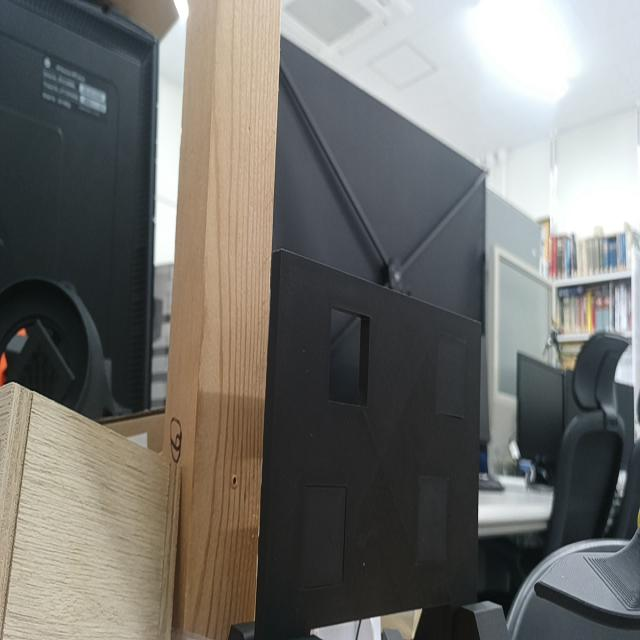Obstacle: (327, 306, 371, 405)
Wall: (268, 248, 482, 630)
